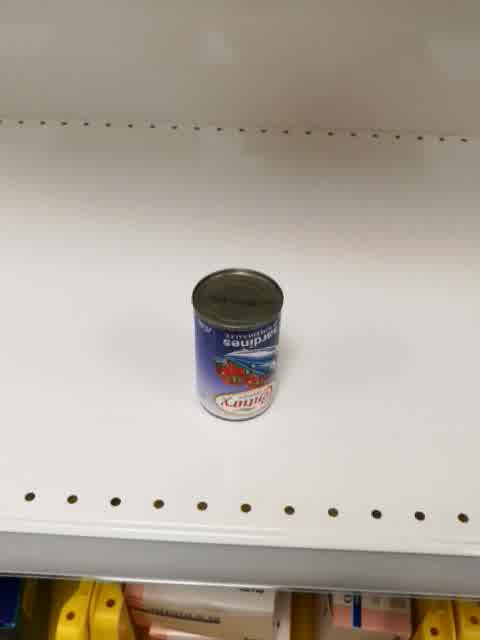sardine: (192, 267, 283, 423)
